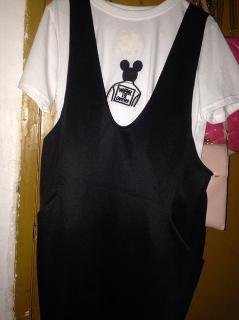short sleeve top: (17, 0, 239, 214)
vest: (36, 0, 215, 319)
